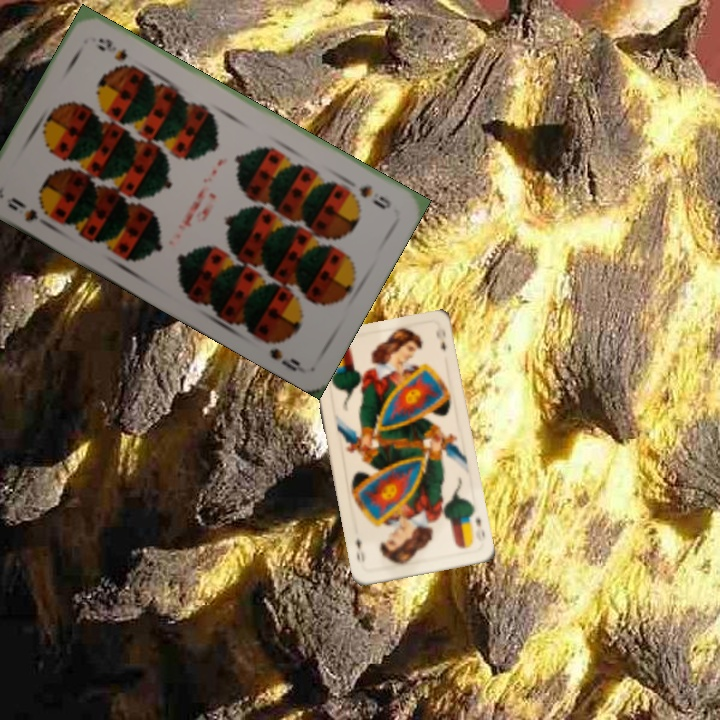EO: (465, 508, 484, 529)
S9: (3, 193, 54, 231), (355, 181, 394, 212)
